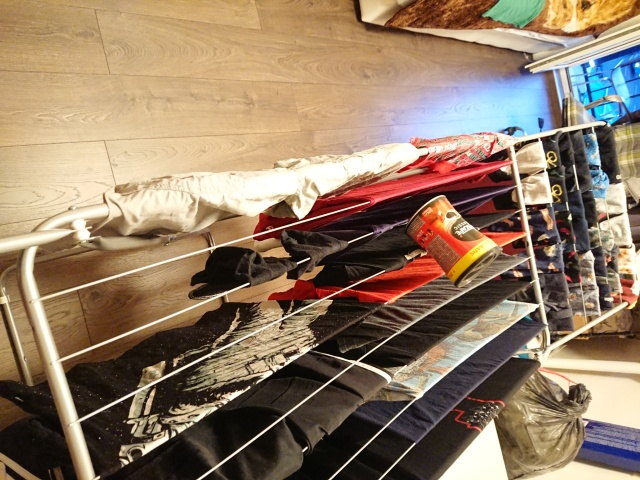Nescafe Classic 225g: (401, 191, 505, 292)
